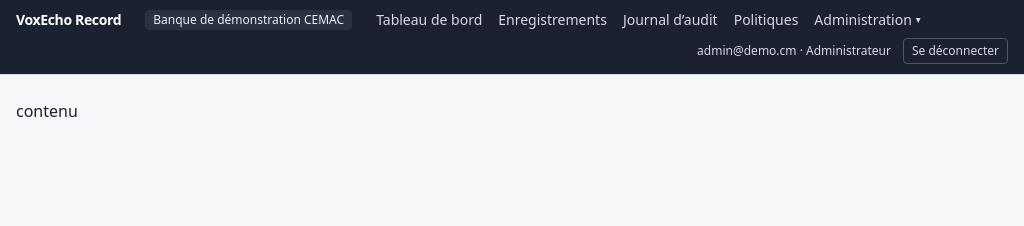
Test: gestion des comptes › ouvre l’entrée « Comptes » à l’ADMIN
Click the button "Administration ▾" at (868, 20), box [814,10,921,30]
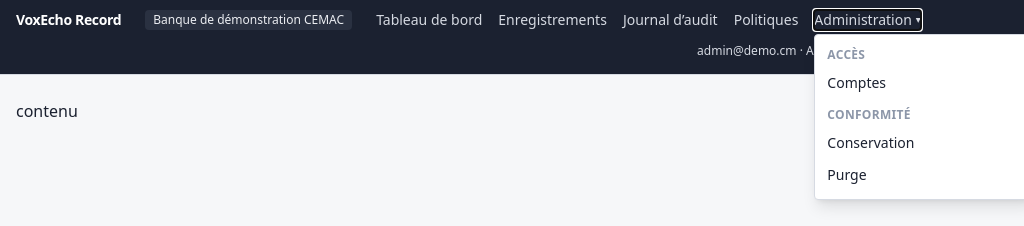
Now the link "Comptes" is shown, box [827,73,886,92]
